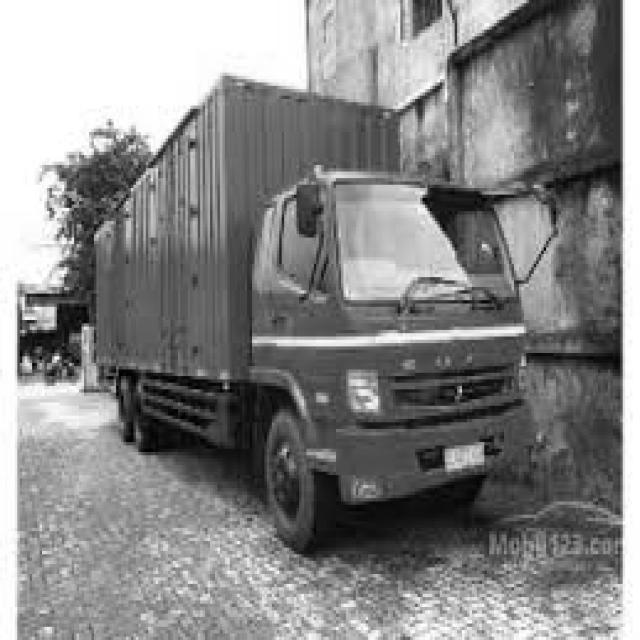truck: (219, 136, 568, 553)
